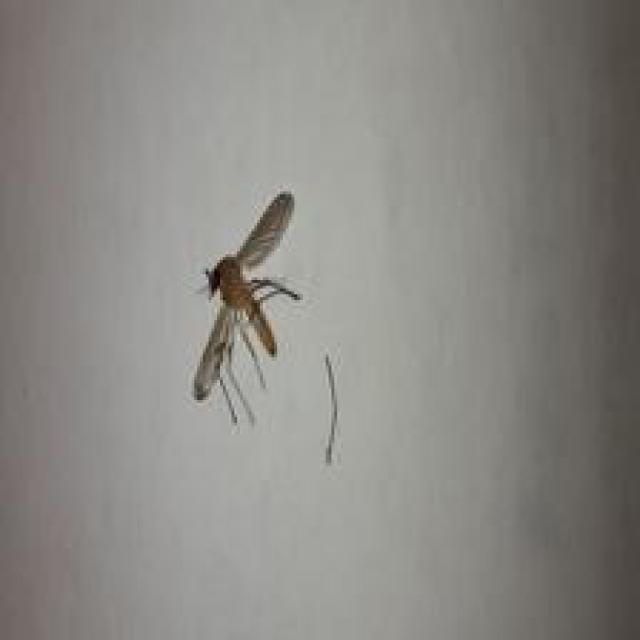Culex: (189, 190, 340, 464)
